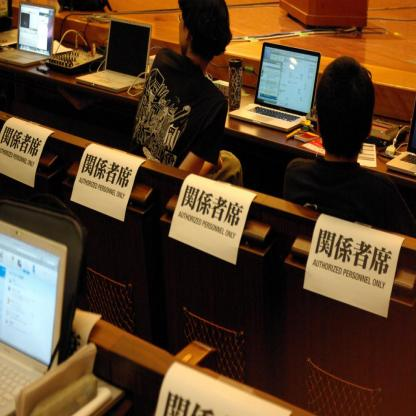board: (0, 223, 71, 392), (229, 43, 320, 131), (76, 19, 152, 92), (0, 0, 55, 68), (387, 96, 416, 178)
